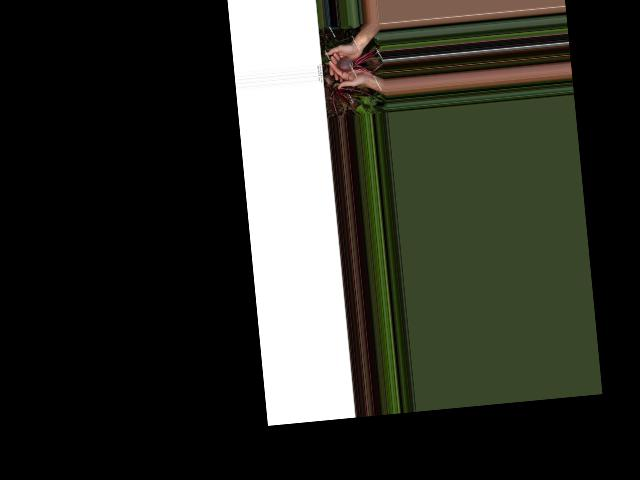beet: (334, 44, 382, 76)
